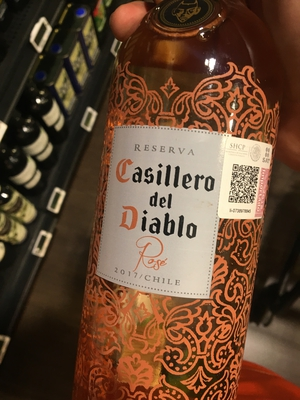casillero del diablo rose: (86, 14, 275, 400)
